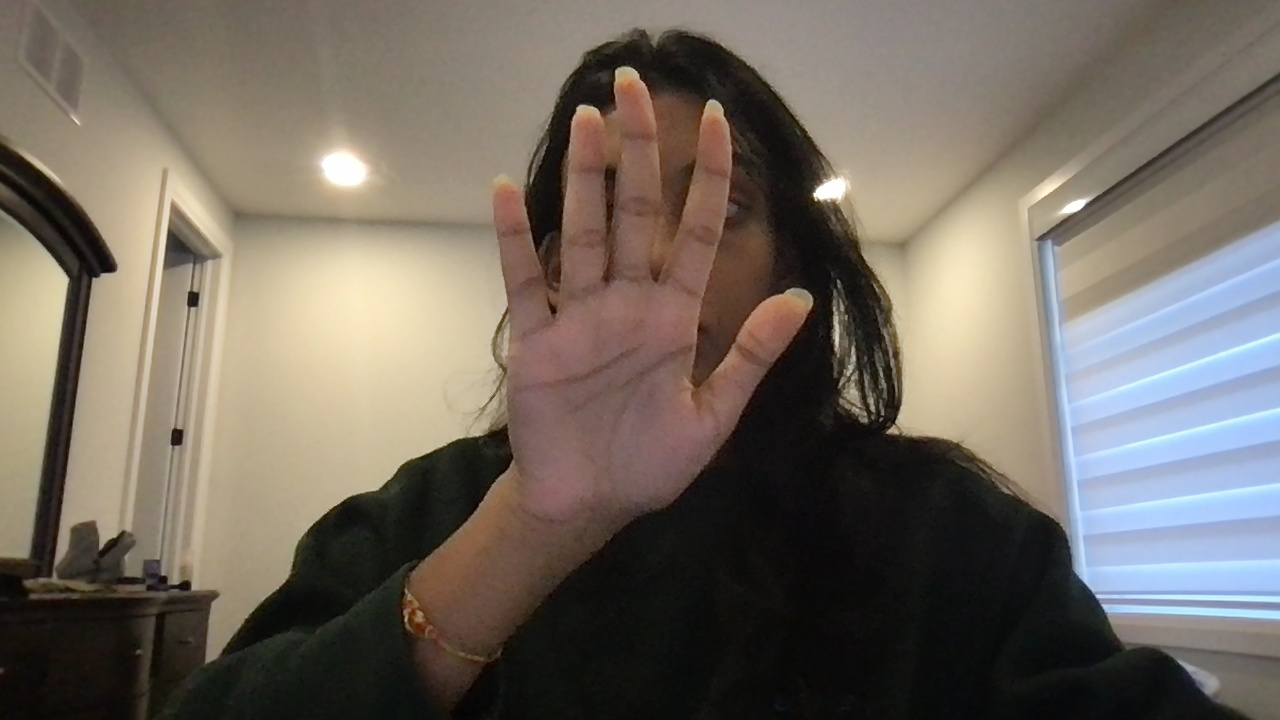Hello: (492, 64, 815, 517)
